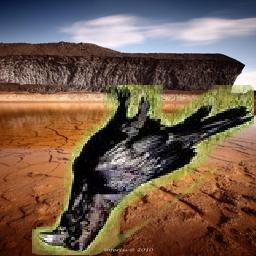Crow: (32, 85, 254, 255)
